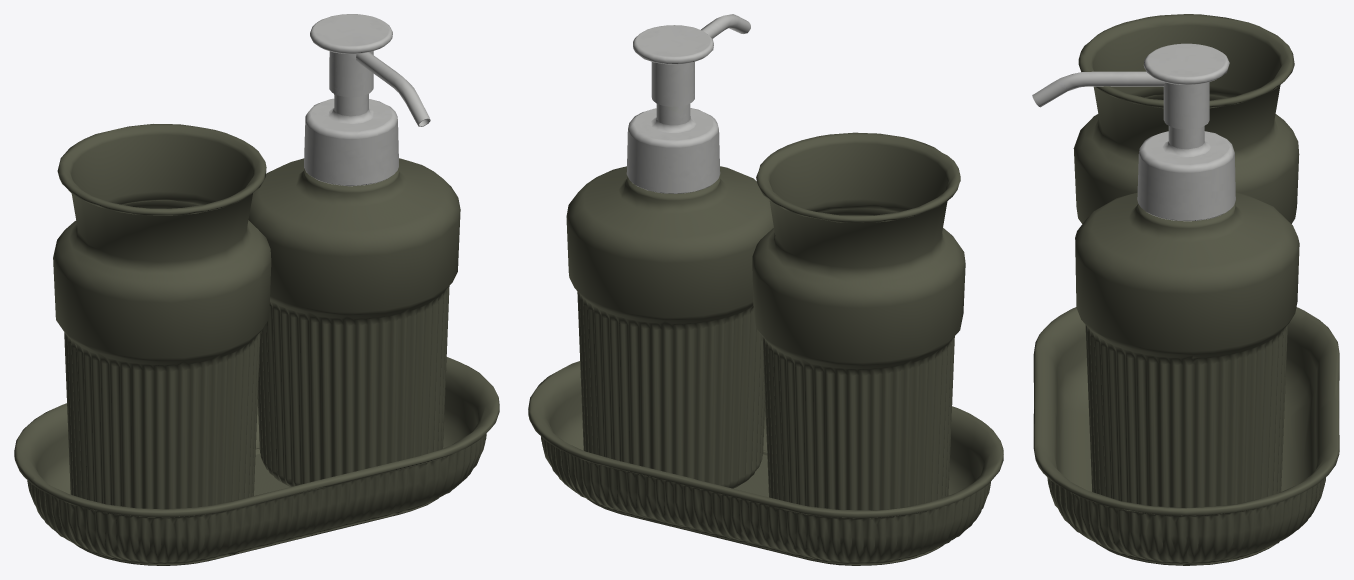
Rendered from brofjarden_komplet_azienkowy_3_szt_50564884.glb.
3 renders of one model, left to right at view 1: azimuth 30°, elevation 25°; view 2: azimuth 150°, elevation 25°; view 3: azimuth 270°, elevation 25°, orthographic. The views are drawn at different scales.
Visible parts, largest first — view 1: brofjarden_komplet_azienkowy_3_szt_50564884; view 2: brofjarden_komplet_azienkowy_3_szt_50564884; view 3: brofjarden_komplet_azienkowy_3_szt_50564884.
Boxes of the visible parts, x1=… form: brofjarden_komplet_azienkowy_3_szt_50564884: x1=14, y1=14, x2=499, y2=565; brofjarden_komplet_azienkowy_3_szt_50564884: x1=528, y1=14, x2=1003, y2=565; brofjarden_komplet_azienkowy_3_szt_50564884: x1=1032, y1=14, x2=1339, y2=565.
Bounding box in the file's own units: 0.1766 × 0.1695 × 0.1022.
3 materials, 3 textured.
